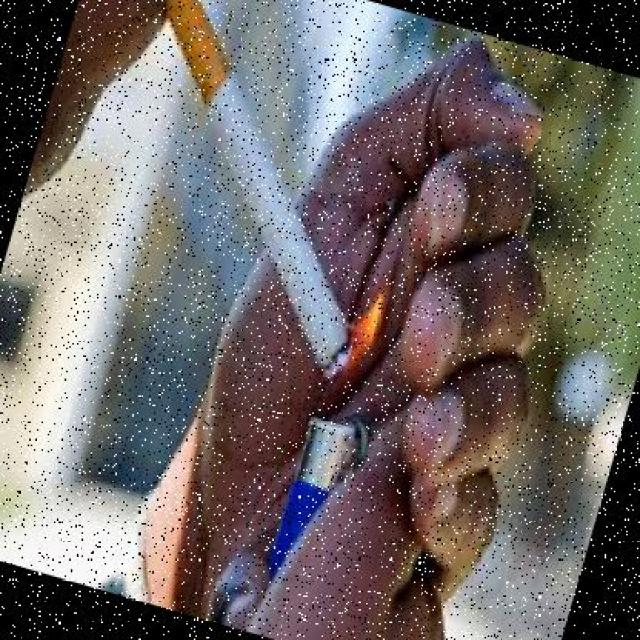fire: (318, 270, 409, 404)
